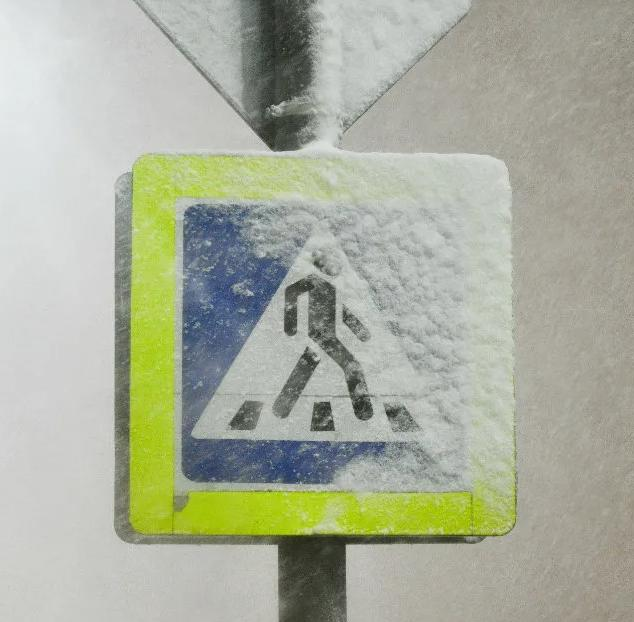obstructed_road_sign: (126, 152, 518, 536)
